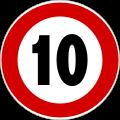Speed Limit -10-: (28, 31, 90, 91)
